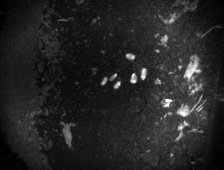corn: (137, 66, 150, 81), (128, 71, 139, 85), (123, 51, 137, 62), (98, 74, 110, 86), (108, 71, 119, 83), (111, 79, 122, 90)
